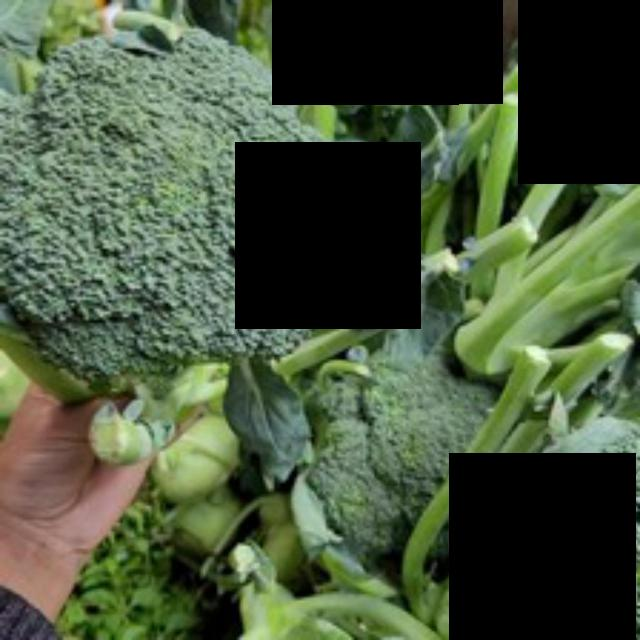broccoli: (0, 20, 348, 386)
